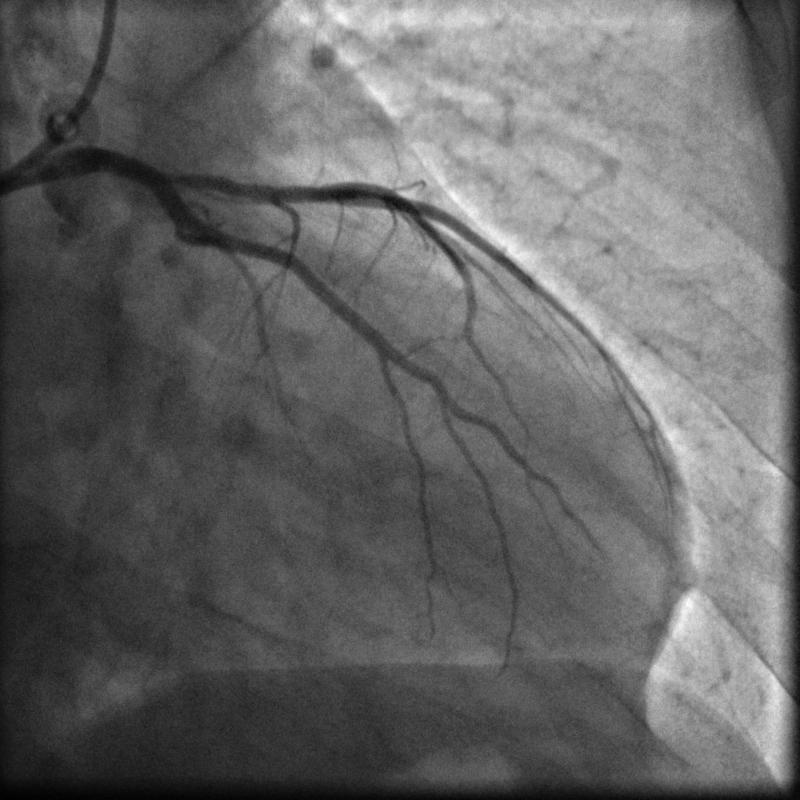Stenosis: (158, 163, 209, 192)
